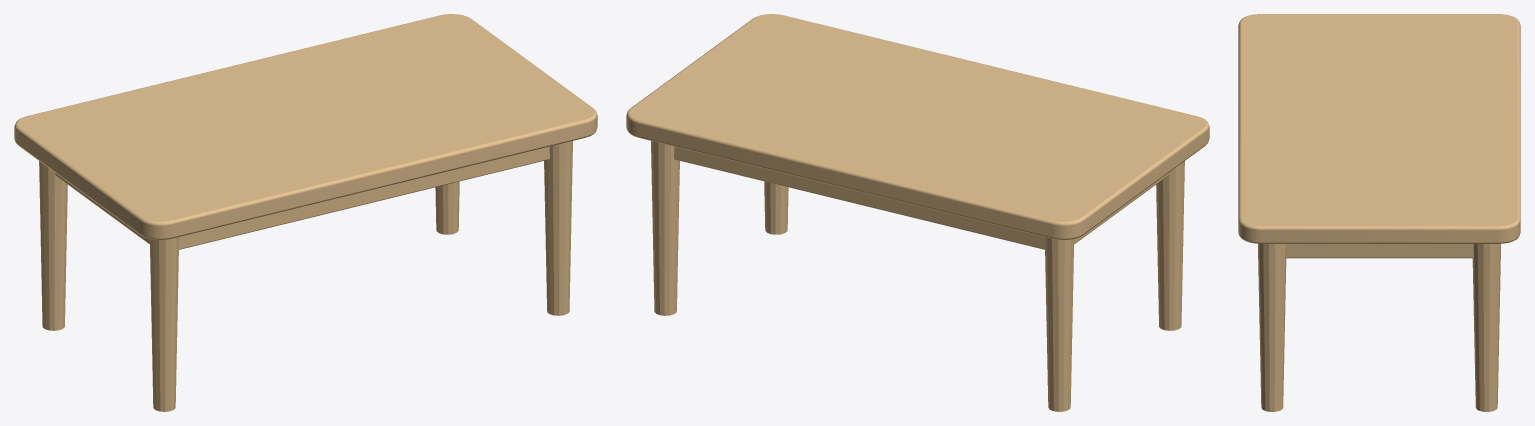
File: table_low_rect.glb
3 renders of one model, left to right at view 1: azimuth 30°, elevation 25°; view 2: azimuth 150°, elevation 25°; view 3: azimuth 270°, elevation 25°, orthographic. The views are drawn at different scales.
Visible parts, largest first — view 1: table_low_rect; view 2: table_low_rect; view 3: table_low_rect.
Part boxes in pixels (x1,y1,x2,y2): table_low_rect: (14, 14, 597, 411); table_low_rect: (626, 14, 1209, 411); table_low_rect: (1238, 14, 1520, 411).
Size of the model in its own units: 0.9 by 0.38 by 0.5.
